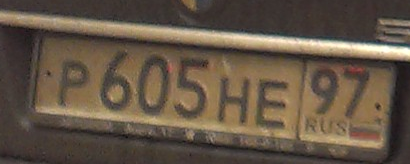character: (173, 56, 211, 120), (101, 46, 135, 110), (138, 52, 171, 115), (57, 59, 90, 112), (216, 75, 250, 124), (258, 77, 290, 129), (344, 66, 371, 121), (311, 67, 339, 113)
